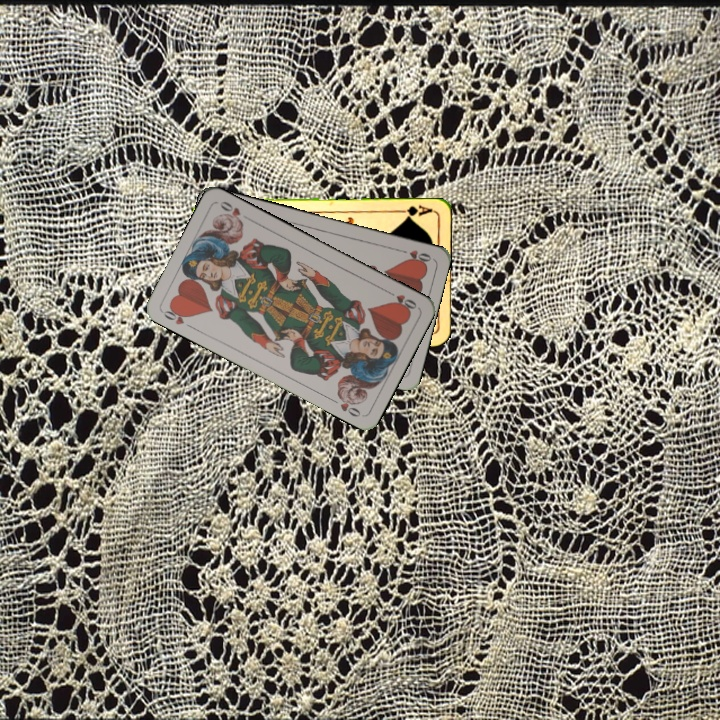GA: (394, 201, 435, 221)
HO: (159, 302, 196, 331), (382, 286, 419, 313), (395, 245, 434, 266)
